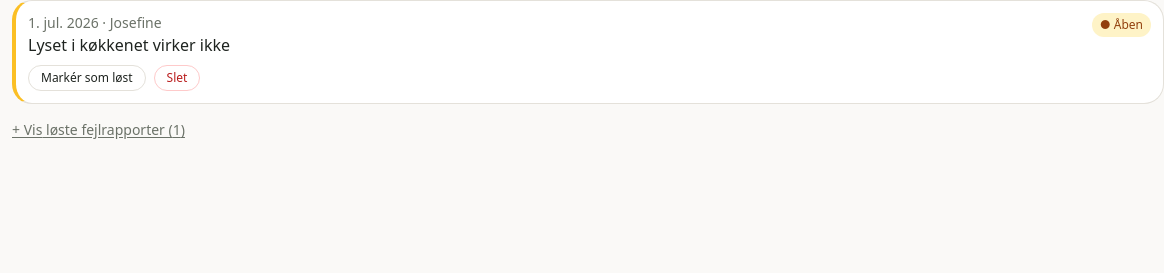
Test case: BugReportsList › viser løste fejlrapporter efter tryk på knappen
Expected: the text "Lyset i køkkenet virker ikke" is shown, [28,33,230,57]
Click the button "+ Vis løste fejlrapporter (1)".
click(98, 130)  # box [12,120,185,140]
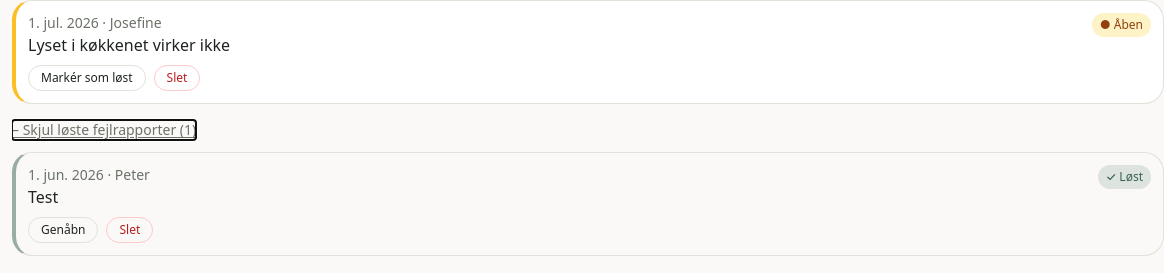
Expected: the text "Test" is shown, [28,186,58,208]
Expected: the text "✓ Løst" is shown, [1098,165,1151,189]
